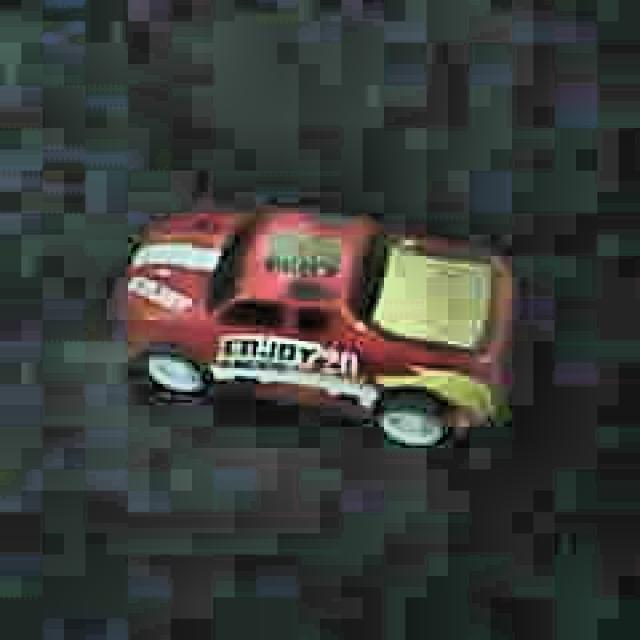car: (122, 203, 510, 452)
